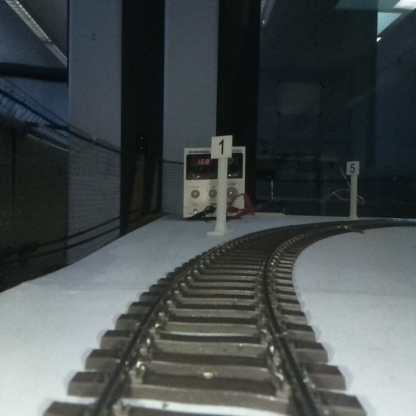white-info-1: (210, 135, 232, 234)
white-info-5: (347, 160, 359, 217)
